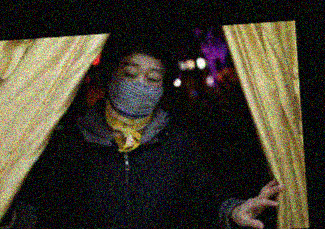with_mask: (108, 59, 165, 118)
